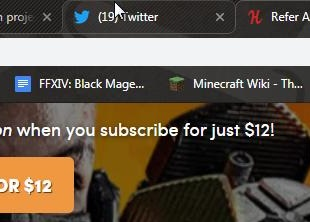cursor: (113, 1, 126, 21)
